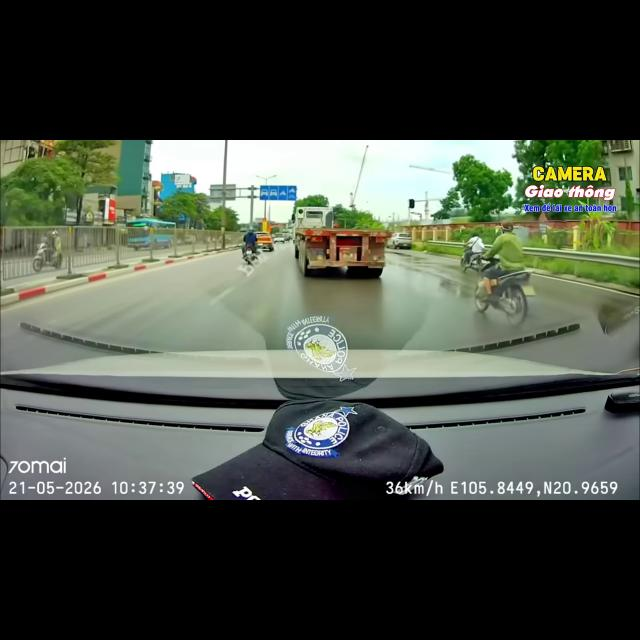bus: (127, 218, 175, 249)
car: (0, 350, 639, 499), (387, 233, 412, 249), (256, 232, 274, 252), (273, 235, 285, 243)
motorcycle: (475, 270, 534, 324), (32, 241, 62, 271), (461, 253, 486, 272), (243, 246, 257, 265)
truck: (292, 207, 391, 278)
